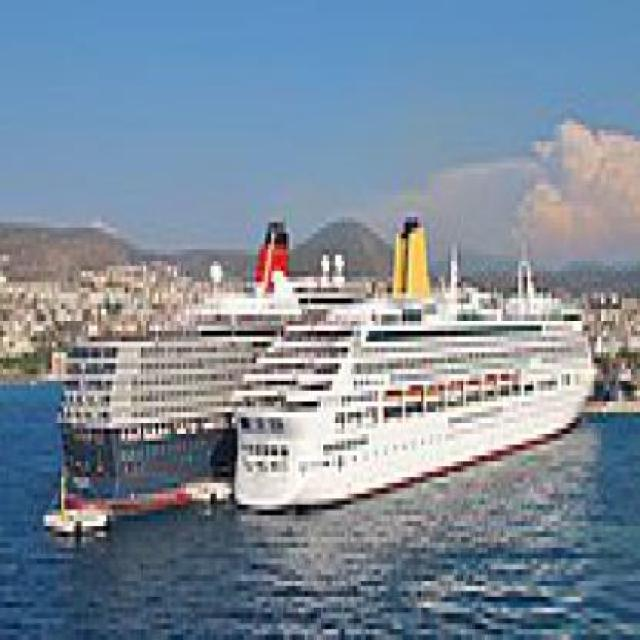cruise: (226, 191, 608, 522)
